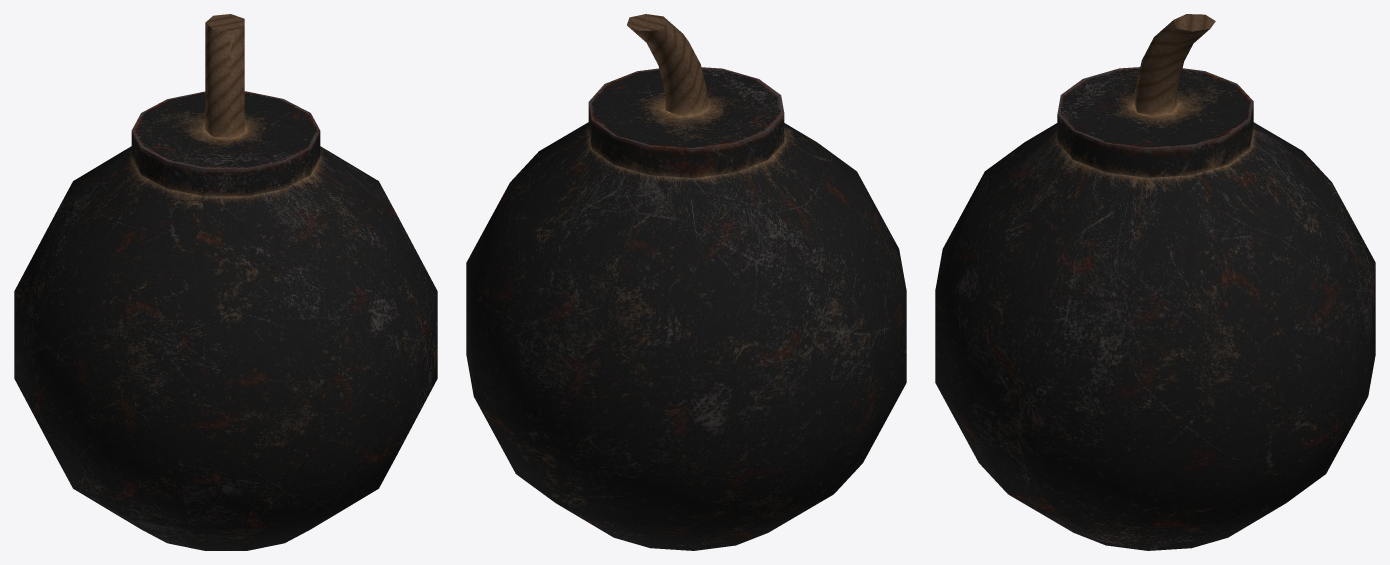
Rendered from bomb.glb.
3 renders of one model, left to right at view 1: azimuth 30°, elevation 25°; view 2: azimuth 150°, elevation 25°; view 3: azimuth 270°, elevation 25°, orthographic. The views are drawn at different scales.
Parts seen in each view (by area): view 1: Bomba; view 2: Bomba; view 3: Bomba.
Part boxes in pixels (bbox=[...]): Bomba: bbox=[14, 14, 437, 550]; Bomba: bbox=[466, 14, 906, 550]; Bomba: bbox=[935, 14, 1375, 550].
Size of the model in its own units: 0.2579 by 0.3311 by 0.2558.
Materials: 1 (1 with a texture image).
